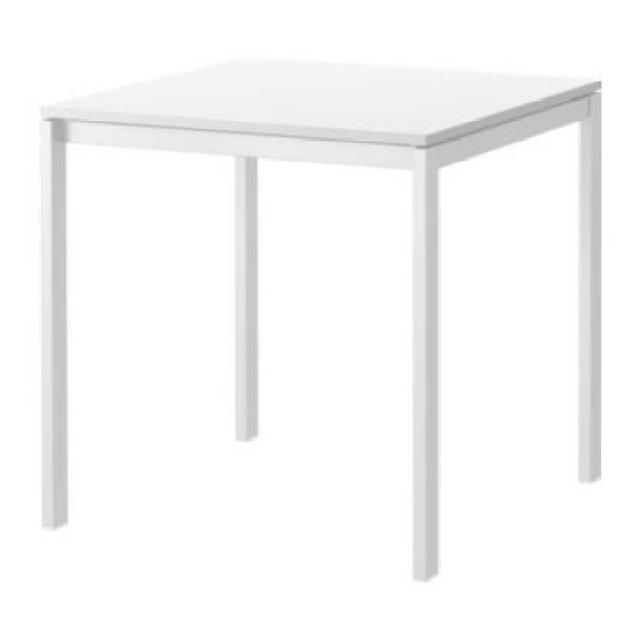tables: (37, 52, 603, 582)
